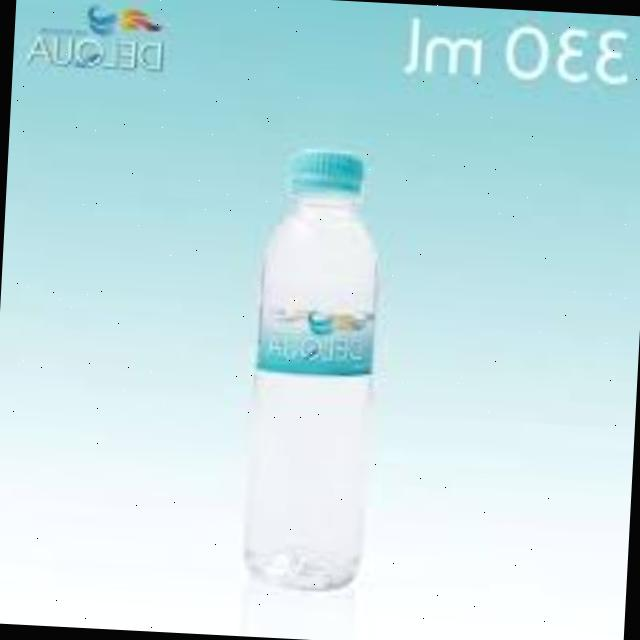trash: (230, 144, 398, 604)
